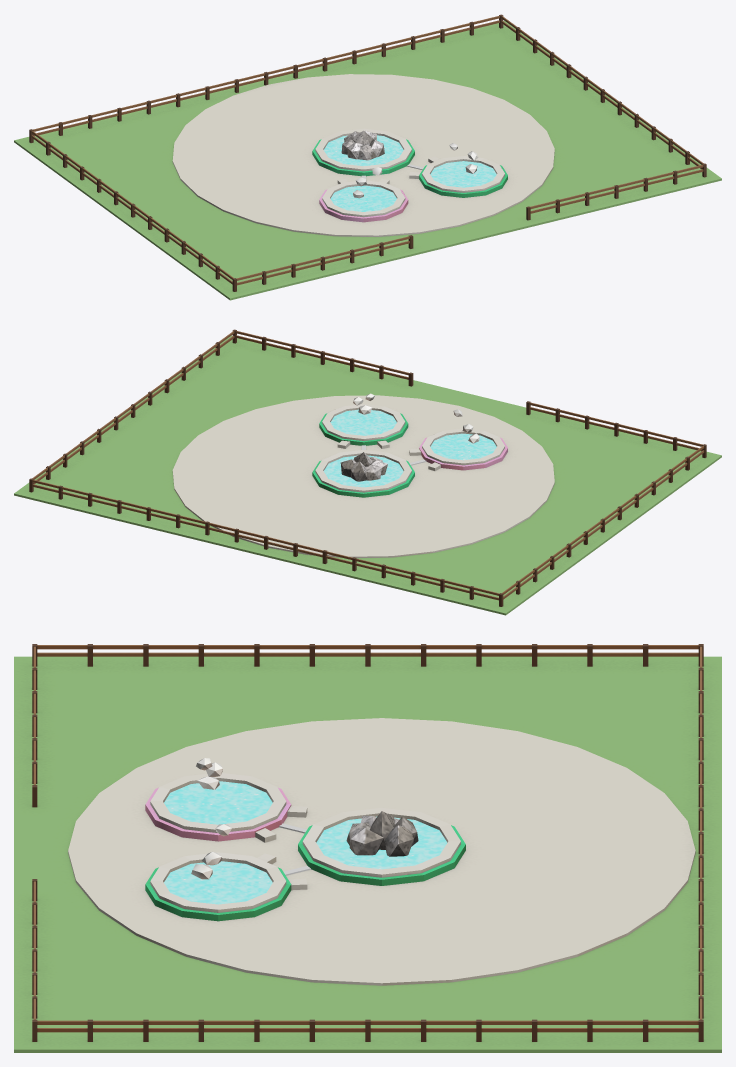
File: area_spring_1_5.fbx
The picture shows the model from 3 angles, top to bottom: view 1: azimuth 30°, elevation 25°; view 2: azimuth 150°, elevation 25°; view 3: azimuth 270°, elevation 25°; orthographic projection. The views are drawn at different scales.
Parts seen in each view (by area): view 1: area_spring_1_5_body; view 2: area_spring_1_5_body; view 3: area_spring_1_5_body.
Boxes of the visible parts, left/top/right/bottom form: area_spring_1_5_body: left=14, top=14, right=721, bottom=300; area_spring_1_5_body: left=14, top=329, right=721, bottom=615; area_spring_1_5_body: left=14, top=644, right=721, bottom=1052.
Size of the model in its own units: 16750 by 1574 by 12750.
Materials: 2 (1 with a texture image).
